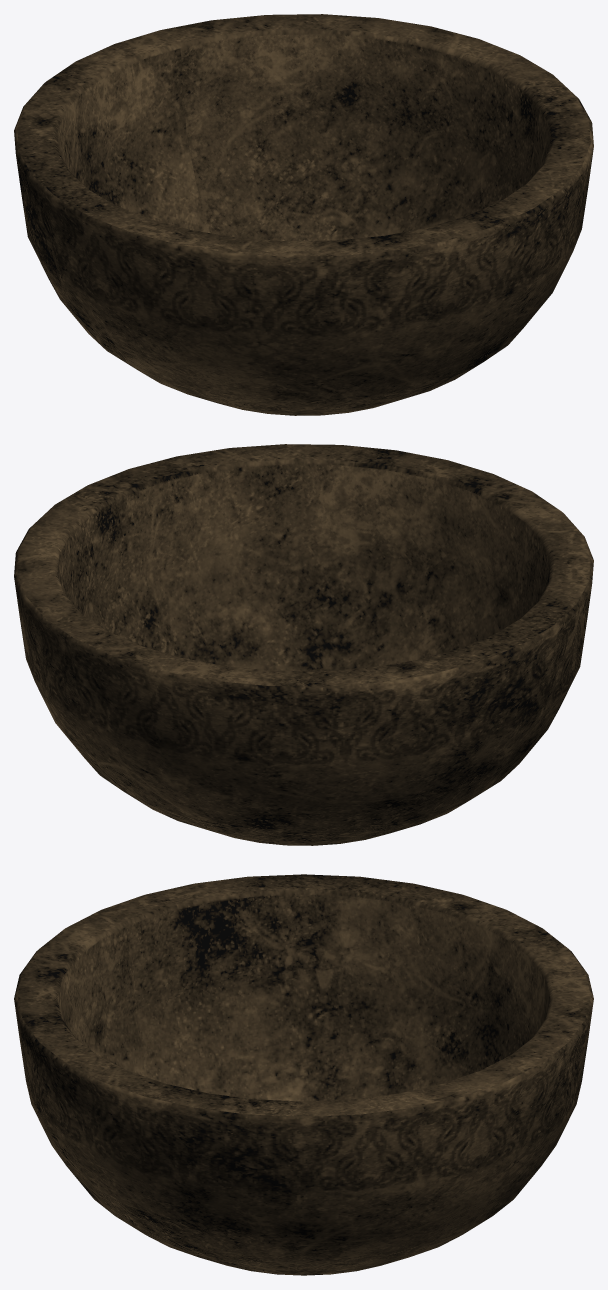
The model's file is Bowl.fbx.
3 views of the same model, one above another, from view 1: azimuth 30°, elevation 25°; view 2: azimuth 150°, elevation 25°; view 3: azimuth 270°, elevation 25° (orthographic).
Visible parts, largest first — view 1: Bowl; view 2: Bowl; view 3: Bowl.
Part boxes in pixels (<box>): Bowl: <box>14,14,593,415</box>; Bowl: <box>14,444,593,845</box>; Bowl: <box>14,874,593,1275</box>.
Bounding box in the file's own units: 33.06 × 15.19 × 33.06.
